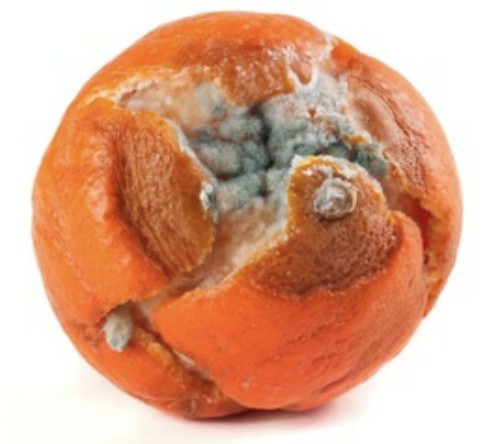rotten_orange: (31, 14, 462, 422)
